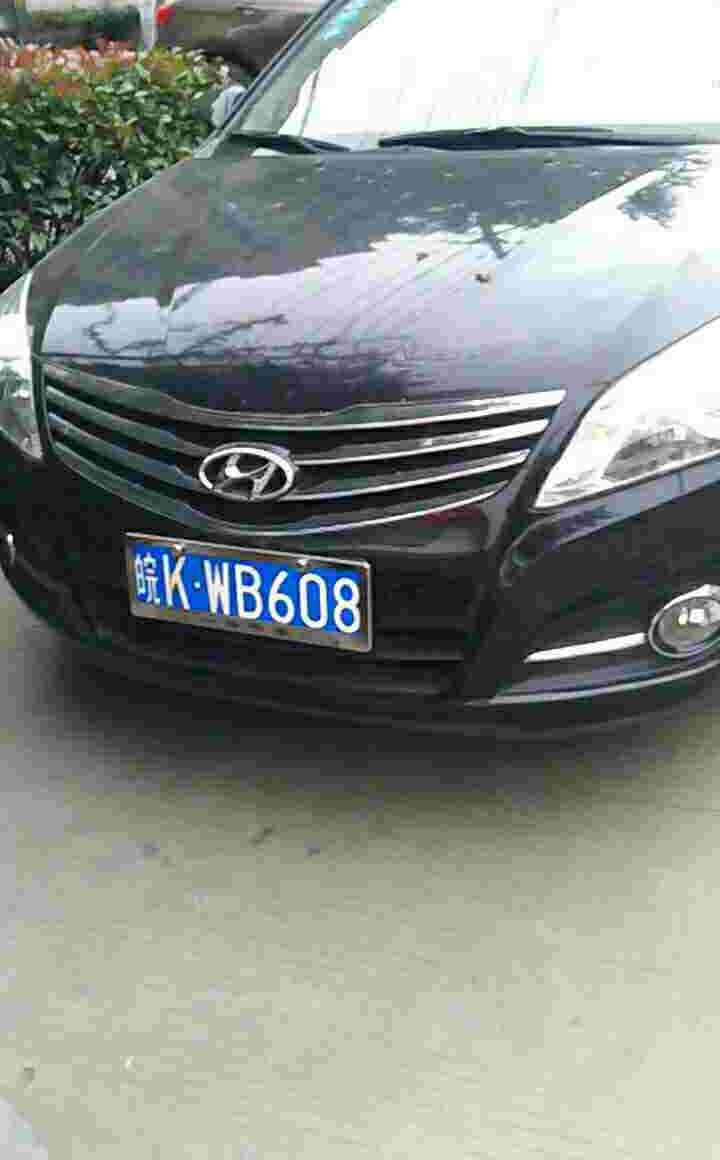plate: (121, 532, 377, 651)
